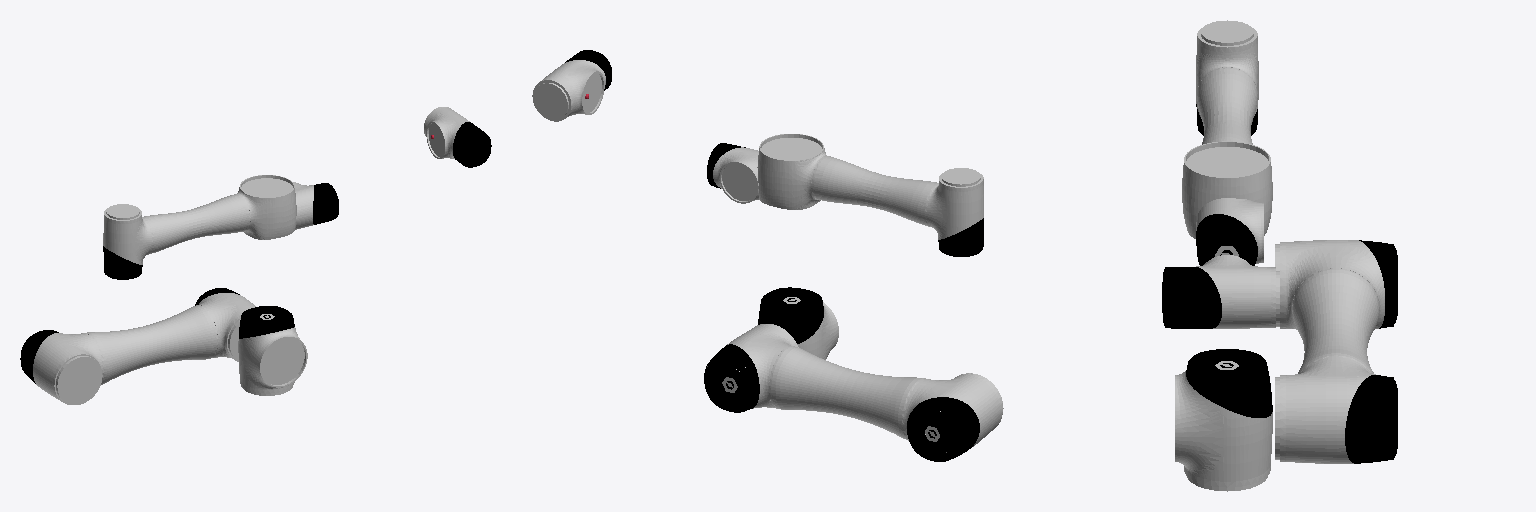
The robot description file, URDF, robot "panda":
<?xml version="1.0" encoding="utf-8"?>
<!-- =================================================================================== -->
<!-- |    This document was autogenerated by xacro from ./panda_arm_hand.urdf.xacro    | -->
<!-- |    EDITING THIS FILE BY HAND IS NOT RECOMMENDED                                 | -->
<!-- =================================================================================== -->

<robot name="panda" xmlns:xacro="http://www.ros.org/wiki/xacro">
  <link name="panda_link0">
    <inertial>
      <origin rpy="0 0 0" xyz="0.0 0.0 0.05"/>
      <mass value="4"/>
      <inertia ixx="0.4" ixy="0.0" ixz="0.0" iyy="0.4" iyz="0.0" izz="0.4"/>
    </inertial>
    <visual>
      <geometry>
        <mesh filename="package://panda_description/meshes/visual/link0.dae"/>
      </geometry>
    </visual>
    <collision>
      <geometry>
        <mesh filename="package://panda_description/meshes/collision/link0.stl"/>
      </geometry>
    </collision>
  </link>
  <link name="panda_link1">
    <inertial>
      <origin rpy="0 0 0" xyz="0.0 0.0 -0.07"/>
      <mass value="3"/>
      <inertia ixx="0.3" ixy="0.0" ixz="0.0" iyy="0.3" iyz="0.0" izz="0.3"/>
    </inertial>
    <visual>
      <geometry>
        <mesh filename="package://panda_description/meshes/visual/link1.dae"/>
      </geometry>
    </visual>
    <collision>
      <geometry>
        <mesh filename="package://panda_description/meshes/collision/link1.stl"/>
      </geometry>
    </collision>
  </link>
  <joint name="panda_joint1" type="revolute">
    <safety_controller k_position="100.0" k_velocity="40.0" soft_lower_limit="-2.8973" soft_upper_limit="2.8973"/>
    <origin rpy="0 0 0" xyz="0 -0.1 0"/>
    <parent link="panda_link0"/>
    <child link="panda_link1"/>
    <axis xyz="0 0 1"/>
    <limit effort="87" lower="-2.8973" upper="2.8973" velocity="2.1750"/>
  </joint>
  <link name="panda_link2">
    <inertial>
      <origin rpy="0 0 0" xyz="0.0 -0.1 0.0"/>
      <mass value="3"/>
      <inertia ixx="0.3" ixy="0.0" ixz="0.0" iyy="0.3" iyz="0.0" izz="0.3"/>
    </inertial>
    <visual>
      <geometry>
        <mesh filename="package://panda_description/meshes/visual/link2.dae"/>
      </geometry>
    </visual>
    <collision>
      <geometry>
        <mesh filename="package://panda_description/meshes/collision/link2.stl"/>
      </geometry>
    </collision>
  </link>
  <joint name="panda_joint2" type="revolute">
    <safety_controller k_position="100.0" k_velocity="40.0" soft_lower_limit="-1.7628" soft_upper_limit="1.7628"/>
    <origin rpy="-1.57079632679 0 0" xyz="0 0 0"/>
    <parent link="panda_link1"/>
    <child link="panda_link2"/>
    <axis xyz="0 0 1"/>
    <limit effort="87" lower="-1.7628" upper="1.7628" velocity="2.1750"/>
  </joint>
  <link name="panda_link3">
    <inertial>
      <origin rpy="0 0 0" xyz="0.04 0 -0.05"/>
      <mass value="2"/>
      <inertia ixx="0.2" ixy="0.0" ixz="0.0" iyy="0.2" iyz="0.0" izz="0.2"/>
    </inertial>
    <visual>
      <geometry>
        <mesh filename="package://panda_description/meshes/visual/link3.dae"/>
      </geometry>
    </visual>
    <collision>
      <geometry>
        <mesh filename="package://panda_description/meshes/collision/link3.stl"/>
      </geometry>
    </collision>
  </link>
  <joint name="panda_joint3" type="revolute">
    <safety_controller k_position="100.0" k_velocity="40.0" soft_lower_limit="-2.8973" soft_upper_limit="2.8973"/>
    <origin rpy="1.57079632679 0 0" xyz="0 -0.316 0"/>
    <parent link="panda_link2"/>
    <child link="panda_link3"/>
    <axis xyz="0 0 1"/>
    <limit effort="87" lower="-2.8973" upper="2.8973" velocity="2.1750"/>
  </joint>
  <link name="panda_link4">
    <inertial>
      <origin rpy="0 0 0" xyz="-0.04 0.05 0"/>
      <mass value="2"/>
      <inertia ixx="0.2" ixy="0.0" ixz="0.0" iyy="0.2" iyz="0.0" izz="0.2"/>
    </inertial>
    <visual>
      <geometry>
        <mesh filename="package://panda_description/meshes/visual/link4.dae"/>
      </geometry>
    </visual>
    <collision>
      <geometry>
        <mesh filename="package://panda_description/meshes/collision/link4.stl"/>
      </geometry>
    </collision>
  </link>
  <joint name="panda_joint4" type="revolute">
    <safety_controller k_position="100.0" k_velocity="40.0" soft_lower_limit="-3.0718" soft_upper_limit="-0.0698"/>
    <origin rpy="1.57079632679 0 0" xyz="0.0825 0 0"/>
    <parent link="panda_link3"/>
    <child link="panda_link4"/>
    <axis xyz="0 0 1"/>
    <limit effort="87" lower="-3.0718" upper="-0.0698" velocity="2.1750"/>
  </joint>
  <link name="panda_link5">
    <inertial>
      <origin rpy="0 0 0" xyz="0 0 -0.15"/>
      <mass value="2"/>
      <inertia ixx="0.2" ixy="0.0" ixz="0.0" iyy="0.2" iyz="0.0" izz="0.2"/>
    </inertial>
    <visual>
      <geometry>
        <mesh filename="package://panda_description/meshes/visual/link5.dae"/>
      </geometry>
    </visual>
    <collision>
      <geometry>
        <mesh filename="package://panda_description/meshes/collision/link5.stl"/>
      </geometry>
    </collision>
  </link>
  <joint name="panda_joint5" type="revolute">
    <safety_controller k_position="100.0" k_velocity="40.0" soft_lower_limit="-2.8973" soft_upper_limit="2.8973"/>
    <origin rpy="-1.57079632679 0 0" xyz="-0.0825 0.384 0"/>
    <parent link="panda_link4"/>
    <child link="panda_link5"/>
    <axis xyz="0 0 1"/>
    <limit effort="12" lower="-2.8973" upper="2.8973" velocity="2.6100"/>
  </joint>
  <link name="panda_link6">
    <inertial>
      <origin rpy="0 0 0" xyz="0.06 0 0"/>
      <mass value="1.5"/>
      <inertia ixx="0.1" ixy="0.0" ixz="0.0" iyy="0.1" iyz="0.0" izz="0.1"/>
    </inertial>
    <visual>
      <geometry>
        <mesh filename="package://panda_description/meshes/visual/link6.dae"/>
      </geometry>
    </visual>
    <collision>
      <geometry>
        <mesh filename="package://panda_description/meshes/collision/link6.stl"/>
      </geometry>
    </collision>
  </link>
  <joint name="panda_joint6" type="revolute">
    <safety_controller k_position="100.0" k_velocity="40.0" soft_lower_limit="-0.0175" soft_upper_limit="3.7525"/>
    <origin rpy="1.57079632679 0 0" xyz="0 0 0"/>
    <parent link="panda_link5"/>
    <child link="panda_link6"/>
    <axis xyz="0 0 1"/>
    <limit effort="12" lower="-0.0175" upper="3.7525" velocity="2.6100"/>
  </joint>
  <link name="panda_link7">
    <inertial>
      <origin rpy="0 0 0" xyz="0 0 0.08"/>
      <mass value="0.5"/>
      <inertia ixx="0.05" ixy="0.0" ixz="0.0" iyy="0.05" iyz="0.0" izz="0.05"/>
    </inertial>
    <visual>
      <geometry>
        <mesh filename="package://panda_description/meshes/visual/link7.dae"/>
      </geometry>
    </visual>
    <collision>
      <geometry>
        <mesh filename="package://panda_description/meshes/collision/link7.stl"/>
      </geometry>
    </collision>
  </link>
  <joint name="panda_joint7" type="revolute">
    <safety_controller k_position="100.0" k_velocity="40.0" soft_lower_limit="-2.8973" soft_upper_limit="2.8973"/>
    <origin rpy="1.57079632679 0 0" xyz="0.088 0 0"/>
    <parent link="panda_link6"/>
    <child link="panda_link7"/>
    <axis xyz="0 0 1"/>
    <limit effort="12" lower="-2.8973" upper="2.8973" velocity="2.6100"/>
  </joint>
  <link name="panda_link8">
      <inertial>
        <origin rpy="0 0 0" xyz="0.0 0.0 0.0"/>
        <mass value="0.005"/>
        <inertia ixx="0.00003" ixy="0.0" ixz="0.0" iyy="0.00003" iyz="0.0" izz="0.00003"/>
      </inertial>
    </link>
    <joint name="panda_joint8" type="fixed">
      <origin rpy="0 0 0" xyz="0 0 0.107"/>
      <parent link="panda_link7"/>
      <child link="panda_link8"/>
      <axis xyz="0 0 0"/>
    </joint>
  <joint name="panda_hand_joint" type="fixed">
    <parent link="panda_link8"/>
    <child link="panda_hand"/>
    <origin rpy="0 0 -0.785398163397" xyz="0 0 0"/>
  </joint>
  <link name="panda_hand">
    <inertial>
      <origin rpy="0 0 0" xyz="0.0 0.0 0.0"/>
      <mass value="0.67893"/>
      <inertia ixx="0.01" ixy="0.0" ixz="0.0" iyy="0.01" iyz="0.0" izz="0.01"/>
    </inertial>
    <visual>
      <geometry>
        <mesh filename="package://panda_description/meshes/visual/hand.dae"/>
      </geometry>
    </visual>
    <collision>
      <geometry>
        <mesh filename="package://panda_description/meshes/collision/hand.stl"/>
      </geometry>
    </collision>
  </link>
  <link name="panda_leftfinger">
    <inertial>
      <origin rpy="0 0 0" xyz="0.0 0.0 0.0"/>
      <mass value="0.01053"/>
      <inertia ixx="0.001" ixy="0.0" ixz="0.0" iyy="0.001" iyz="0.0" izz="0.001"/>
    </inertial>
    <visual>
      <geometry>
        <mesh filename="package://panda_description/meshes/visual/finger.dae"/>
      </geometry>
    </visual>
    <collision>
      <geometry>
        <mesh filename="package://panda_description/meshes/collision/finger.stl"/>
      </geometry>
    </collision>
  </link>
  <link name="panda_rightfinger">
    <inertial>
      <origin rpy="0 0 0" xyz="0.0 0.0 0.0"/>
      <mass value="0.01053"/>
      <inertia ixx="0.001" ixy="0.0" ixz="0.0" iyy="0.001" iyz="0.0" izz="0.001"/>
    </inertial>
    <visual>
      <origin rpy="0 0 3.14159265359" xyz="0 0 0"/>
      <geometry>
        <mesh filename="package://panda_description/meshes/visual/finger.dae"/>
      </geometry>
    </visual>
    <collision>
      <origin rpy="0 0 3.14159265359" xyz="0 0 0"/>
      <geometry>
        <mesh filename="package://panda_description/meshes/collision/finger.stl"/>
      </geometry>
    </collision>
  </link>
  <joint name="panda_finger_joint1" type="prismatic">
    <parent link="panda_hand"/>
    <child link="panda_leftfinger"/>
    <origin rpy="0 0 0" xyz="0 0 0.0584"/>
    <axis xyz="0 1 0"/>
    <limit effort="20" lower="0.0" upper="0.04" velocity="0.2"/>
  </joint>
  <joint name="panda_finger_joint2" type="prismatic">
    <parent link="panda_hand"/>
    <child link="panda_rightfinger"/>
    <origin rpy="0 0 0" xyz="0 0 0.0584"/>
    <axis xyz="0 -1 0"/>
    <limit effort="20" lower="0.0" upper="0.04" velocity="0.2"/>
    <mimic joint="panda_finger_joint1"/>
  </joint>
</robot>

--- Render facts (derived) ---
Views: 3 orthographic renders of the robot side by side, from view 1: azimuth 30°, elevation 25°; view 2: azimuth 150°, elevation 25°; view 3: azimuth 270°, elevation 25°.
Robot: panda — 12 links, 11 joints (7 revolute, 2 prismatic, 2 fixed); root link panda_link0; default pose: all joints at 0 but 1 set to mid-range because 0 is outside their limits (panda_joint4 = -1.57).
Links seen in each view (by area): view 1: panda_link2, panda_link3, panda_link1, panda_link5, panda_link4; view 2: panda_link2, panda_link3, panda_link5, panda_link1, panda_link4; view 3: panda_link2, panda_link3, panda_link1, panda_link5, panda_link4.
Boxes of the visible links, bbox=[...] form: panda_link2: bbox=[20, 288, 255, 404]; panda_link3: bbox=[103, 175, 296, 279]; panda_link1: bbox=[238, 306, 307, 395]; panda_link5: bbox=[424, 107, 491, 167]; panda_link4: bbox=[293, 182, 338, 229]; panda_link2: bbox=[704, 324, 1003, 461]; panda_link3: bbox=[757, 134, 983, 256]; panda_link5: bbox=[532, 50, 611, 121]; panda_link1: bbox=[758, 287, 838, 359]; panda_link4: bbox=[707, 143, 758, 203]; panda_link2: bbox=[1275, 240, 1397, 463]; panda_link3: bbox=[1182, 20, 1272, 238]; panda_link1: bbox=[1175, 349, 1272, 491]; panda_link5: bbox=[1162, 255, 1279, 328]; panda_link4: bbox=[1196, 198, 1263, 265].
Bounding box of the posed robot: 0.9974 × 0.3185 × 0.5239 m (x, y, z).
6 mesh visuals loaded from 10 distinct referenced files (6 Collada DAE); not drawn: 5 (reference not matched to a file when rendering).
